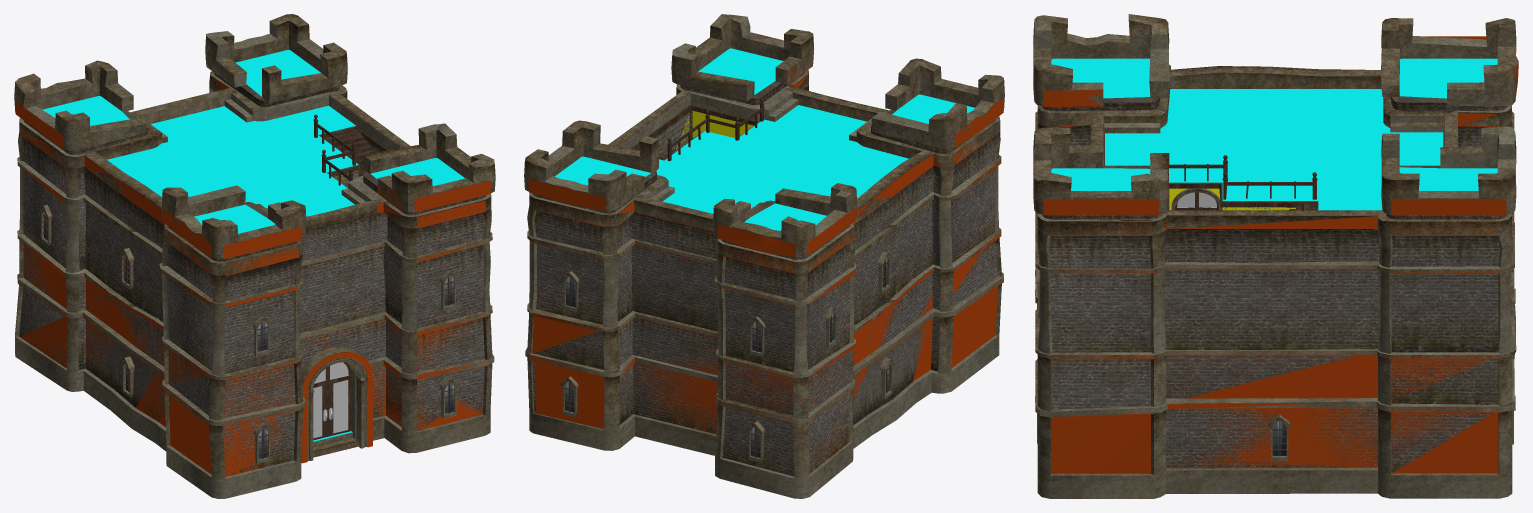
File: port_knight_benefactor_village.FBX
The picture shows the model from 3 angles, left to right: view 1: azimuth 30°, elevation 25°; view 2: azimuth 150°, elevation 25°; view 3: azimuth 270°, elevation 25°; orthographic projection. The views are drawn at different scales.
Parts seen in each view (by area): view 1: port_knight_benefactor_village_exterior, port_knight_benefactor_village_decowallext, port_knight_benefactor_village_decofloor, port_knight_benefactor_village_doorfrontright, port_knight_benefactor_village_2ndfloor, port_knight_benefactor_village_doorfrontleft, port_knight_benefactor_village_1stfloor; view 2: port_knight_benefactor_village_exterior, port_knight_benefactor_village_decowallext, port_knight_benefactor_village_decofloor, port_knight_benefactor_village_2ndfloor, port_knight_benefactor_village_decowall; view 3: port_knight_benefactor_village_exterior, port_knight_benefactor_village_decowallext, port_knight_benefactor_village_decofloor, port_knight_benefactor_village_doorint4, port_knight_benefactor_village_2ndfloor.
Part boxes in pixels (x1=…): port_knight_benefactor_village_exterior: x1=14, y1=14, x2=495, y2=498; port_knight_benefactor_village_decowallext: x1=14, y1=77, x2=491, y2=476; port_knight_benefactor_village_decofloor: x1=42, y1=50, x2=464, y2=441; port_knight_benefactor_village_doorfrontright: x1=328, y1=362, x2=350, y2=436; port_knight_benefactor_village_2ndfloor: x1=321, y1=127, x2=380, y2=187; port_knight_benefactor_village_doorfrontleft: x1=313, y1=367, x2=327, y2=440; port_knight_benefactor_village_1stfloor: x1=313, y1=432, x2=359, y2=457; port_knight_benefactor_village_exterior: x1=524, y1=14, x2=1004, y2=498; port_knight_benefactor_village_decowallext: x1=528, y1=53, x2=1004, y2=473; port_knight_benefactor_village_decofloor: x1=554, y1=48, x2=974, y2=230; port_knight_benefactor_village_2ndfloor: x1=633, y1=111, x2=753, y2=353; port_knight_benefactor_village_decowall: x1=675, y1=111, x2=753, y2=151; port_knight_benefactor_village_exterior: x1=1033, y1=14, x2=1518, y2=498; port_knight_benefactor_village_decowallext: x1=1033, y1=36, x2=1518, y2=473; port_knight_benefactor_village_decofloor: x1=1051, y1=58, x2=1497, y2=210; port_knight_benefactor_village_doorint4: x1=1175, y1=192, x2=1218, y2=210; port_knight_benefactor_village_2ndfloor: x1=1171, y1=188, x2=1318, y2=210.
Size of what is drawn, in the model's own units: 1589 by 1471 by 1979.
